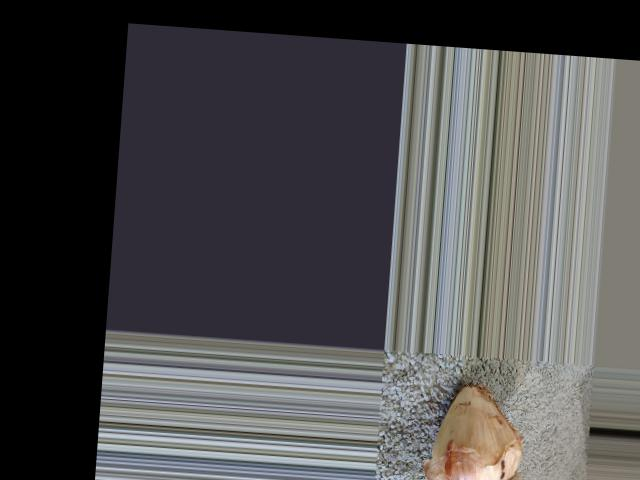onion: (435, 380, 528, 480)
